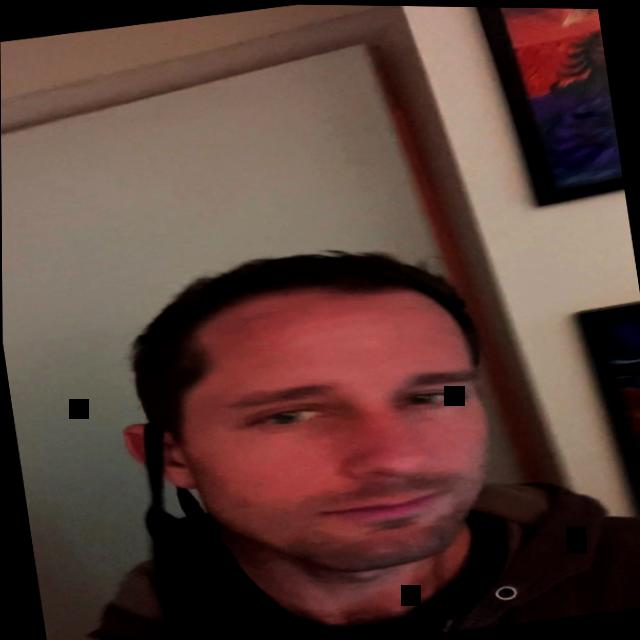NO-Mask: (119, 243, 547, 640)
